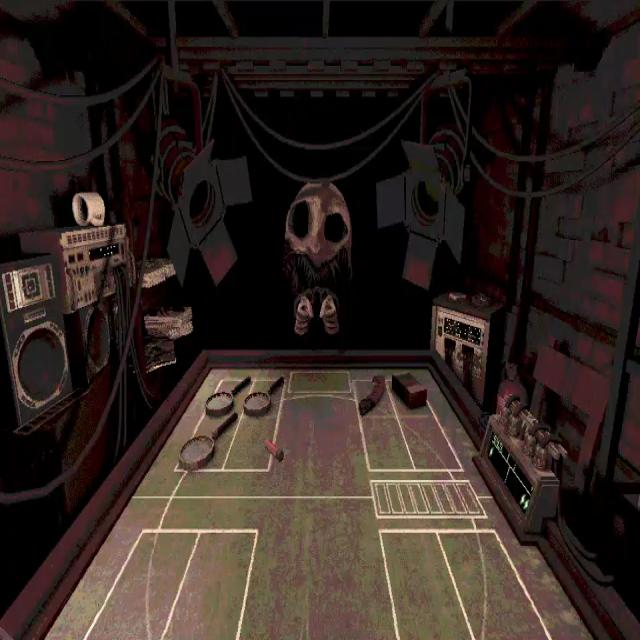ally: (38, 492, 609, 639)
cigar: (391, 371, 427, 408)
doubledamage: (359, 375, 385, 415)
emptyspace: (82, 531, 203, 639), (441, 530, 554, 639), (379, 528, 476, 639), (162, 531, 258, 639), (397, 416, 459, 468), (224, 417, 279, 468), (361, 418, 414, 470)
enemyspace: (141, 359, 485, 484)
lens: (179, 418, 236, 468), (204, 378, 250, 417), (243, 375, 284, 416)
